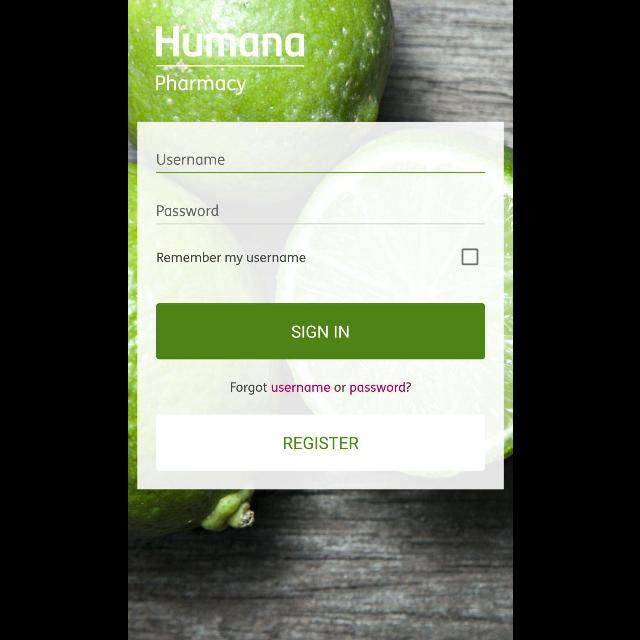backgroundimage: (128, 1, 512, 640)
checkbox: (460, 248, 478, 266)
input: (156, 204, 484, 226), (156, 154, 484, 173)
text: (156, 26, 304, 58), (230, 381, 410, 395), (156, 74, 247, 96), (157, 252, 306, 264), (156, 154, 224, 166), (156, 204, 218, 216)
textbutton: (156, 304, 484, 360), (156, 415, 484, 471), (350, 381, 404, 395), (270, 384, 330, 392)
